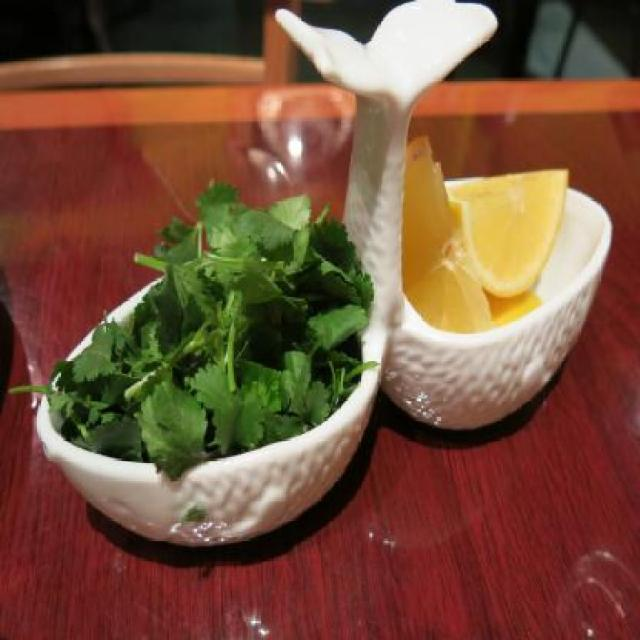Lemon: (456, 166, 572, 300), (404, 137, 450, 288)
